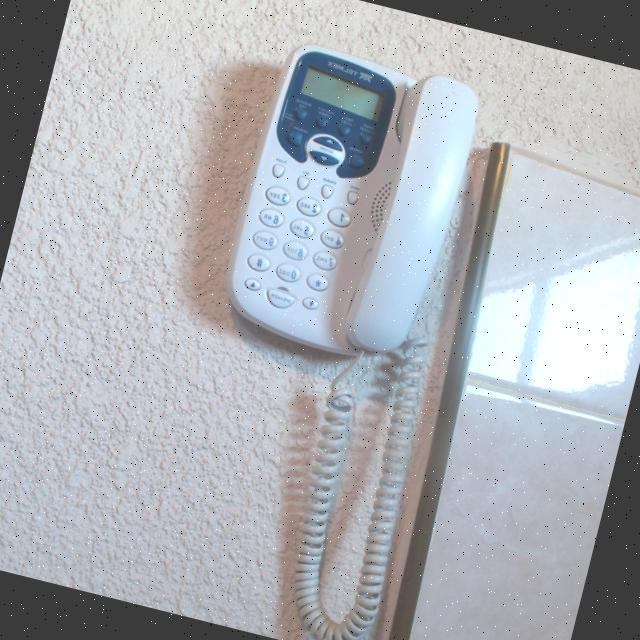Phone: (143, 35, 509, 640)
